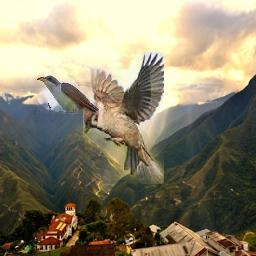Cuckoo: (37, 76, 99, 115)
Sparrow: (84, 52, 165, 184)
